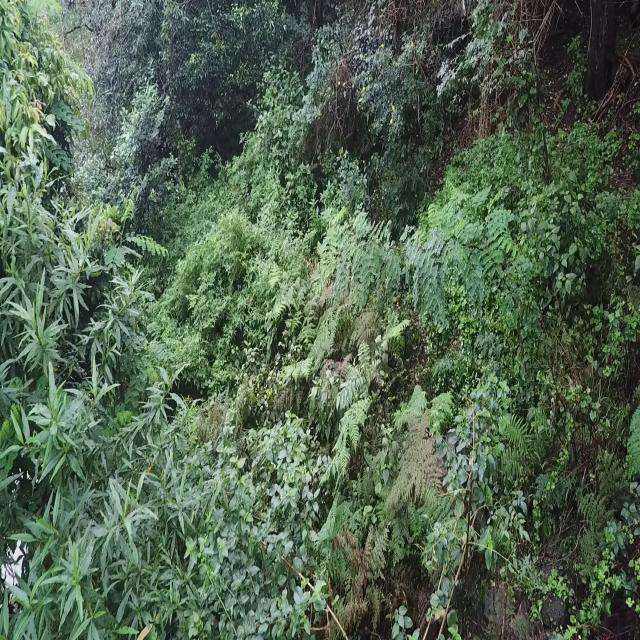Mysore-Thorn-Weed: (309, 188, 524, 306)
